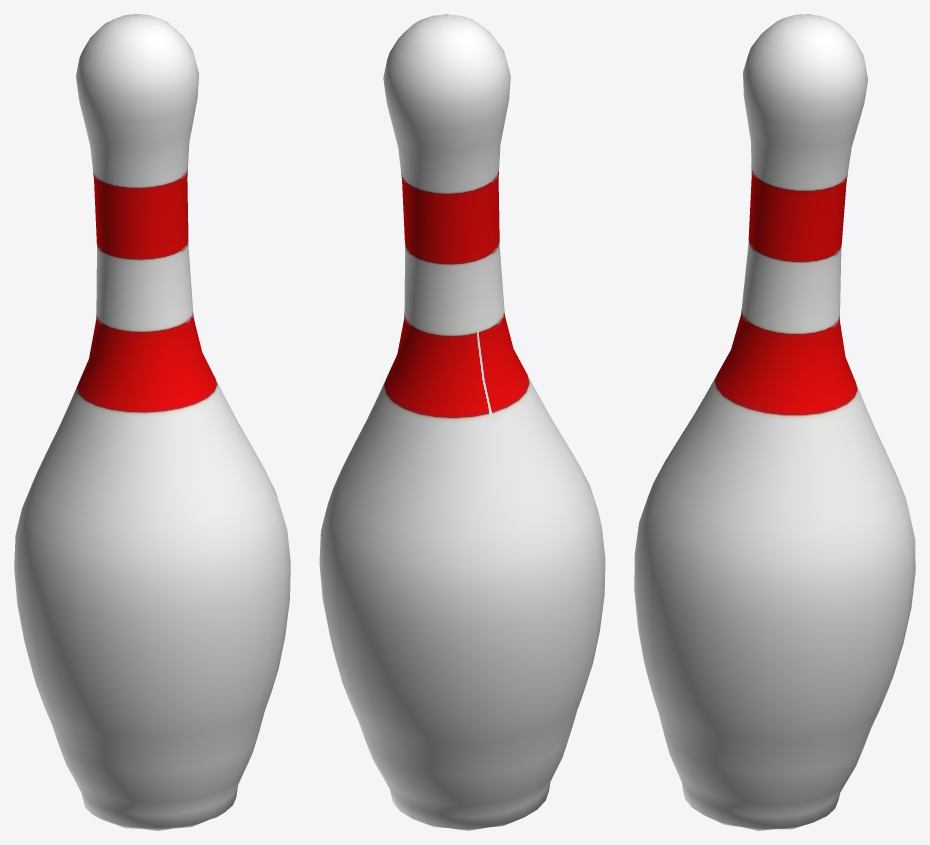
3 renders of one model, left to right at view 1: azimuth 30°, elevation 25°; view 2: azimuth 150°, elevation 25°; view 3: azimuth 270°, elevation 25°, orthographic. The views are drawn at different scales.
Parts seen in each view (by area): view 1: Cylinder01; view 2: Cylinder01; view 3: Cylinder01.
Part boxes in pixels (left/top/right/bottom): Cylinder01: left=14, top=14, right=290, bottom=830; Cylinder01: left=319, top=14, right=605, bottom=830; Cylinder01: left=634, top=14, right=915, bottom=830.
Bounding box in the file's own units: 20.93 × 20.92 × 64.63.
1 material, 1 textured.
